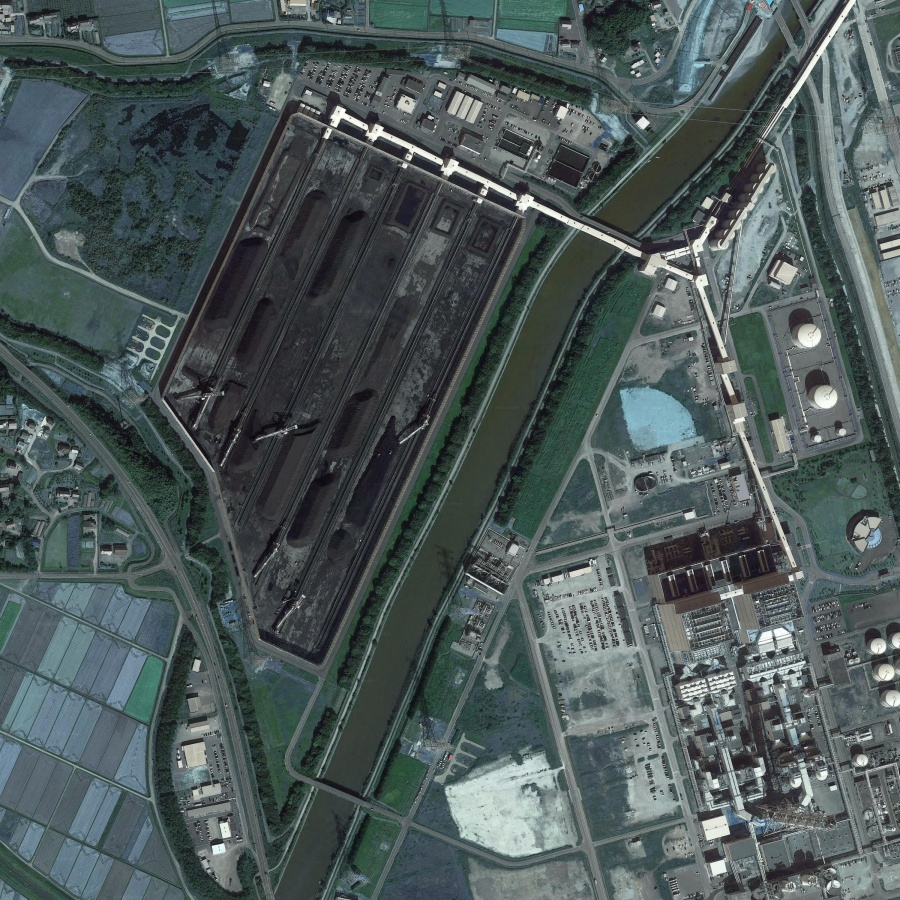PowerPlant: (162, 103, 529, 659)
